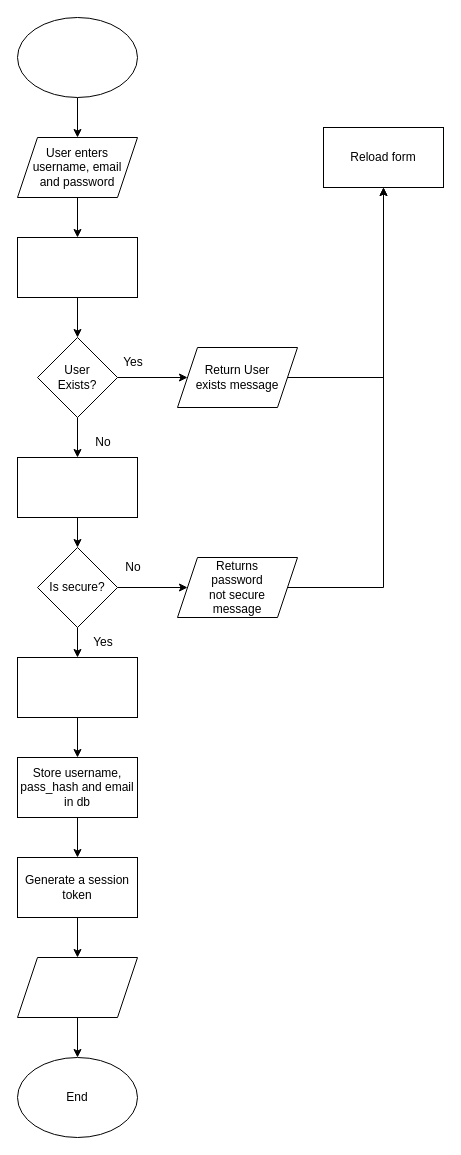
Image size: 461x1155. Some labels were removed from this diagram. Each missing label, with the centre of its shape:
"Check if the user already exists" goes at (x=77, y=267).
"Check password is secure" goes at (x=77, y=487).
"Hash user password" goes at (x=77, y=687).
"Register Form Loaded" goes at (x=77, y=57).
"Send the user to home page" goes at (x=77, y=987).
